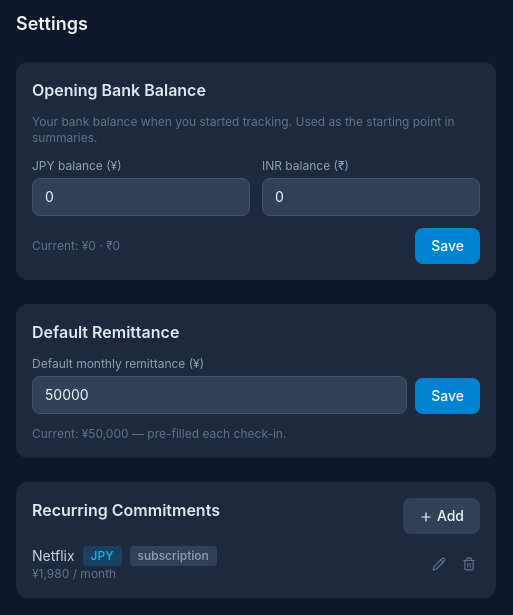
Test: SettingsView (extended) › deletes a commitment
The width and height of the screenshot is (513, 615).
expect the text "Netflix" is shown: met, box [32,546,75,566]
Click the button named "Delete Netflix".
click(469, 564)  # box [458,553,480,575]
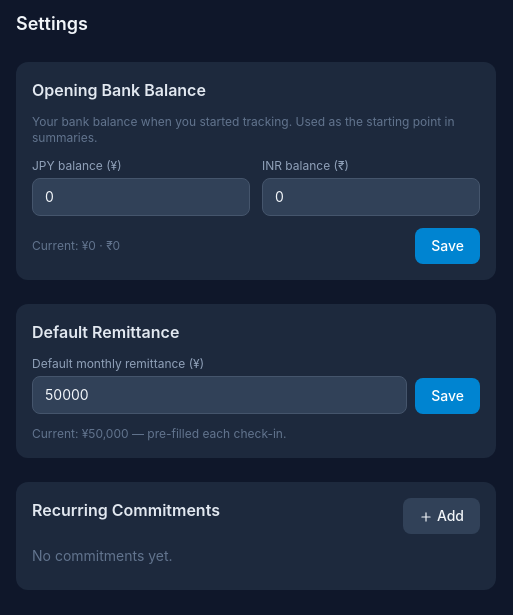
expect the text "Netflix" is gone: met
